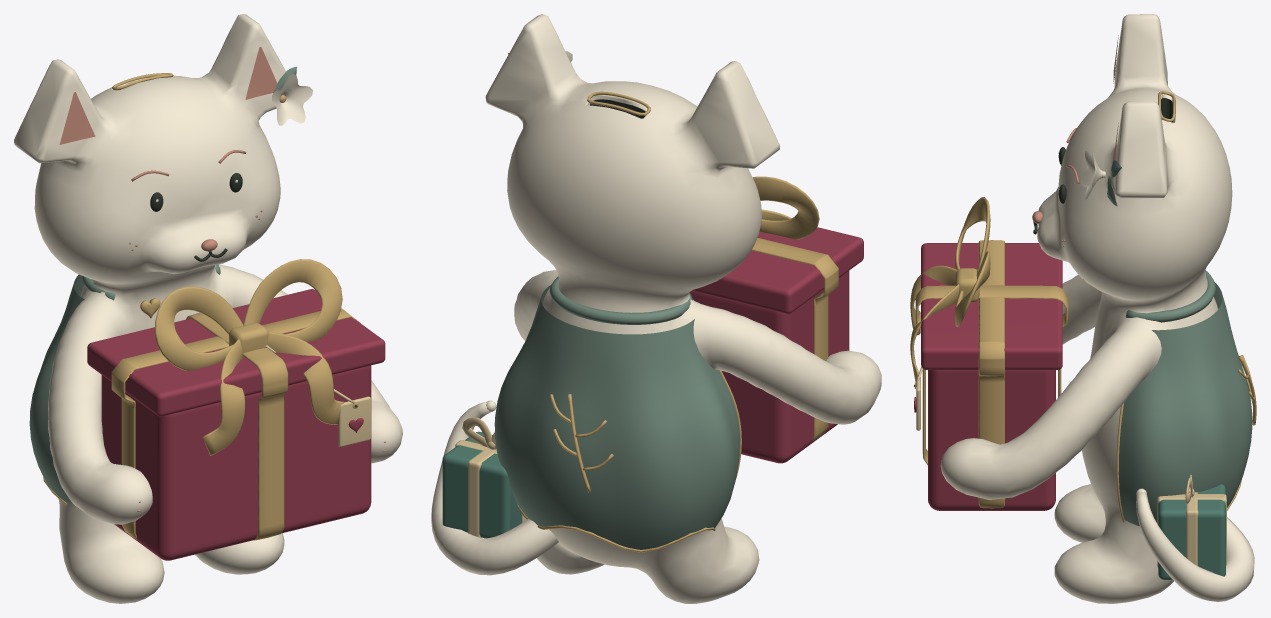
Rendered from gifts-giving.v1.glb.
The picture shows the model from 3 angles, left to right: view 1: azimuth 30°, elevation 25°; view 2: azimuth 150°, elevation 25°; view 3: azimuth 270°, elevation 25°; orthographic projection. The views are drawn at different scales.
Visible parts, largest first — view 1: Gifts & Giving | Porcelain, Gifts & Giving | Garnet, Gifts & Giving | Gold, Gifts & Giving | Sage, Gifts & Giving | Rose, Gifts & Giving | Parchment, Gifts & Giving | Ink; view 2: Gifts & Giving | Porcelain, Gifts & Giving | Sage, Gifts & Giving | Garnet, Gifts & Giving | Gold, Gifts & Giving | Celadon, Gifts & Giving | Parchment; view 3: Gifts & Giving | Porcelain, Gifts & Giving | Sage, Gifts & Giving | Garnet, Gifts & Giving | Gold, Gifts & Giving | Celadon, Gifts & Giving | Parchment, Gifts & Giving | Ink.
Boxes of the visible parts, box(x1,y1,x2,y2) form: Gifts & Giving | Porcelain: box(14, 14, 402, 603); Gifts & Giving | Garnet: box(87, 289, 385, 560); Gifts & Giving | Gold: box(43, 73, 359, 540); Gifts & Giving | Sage: box(29, 66, 296, 502); Gifts & Giving | Rose: box(59, 47, 386, 511); Gifts & Giving | Parchment: box(265, 345, 370, 446); Gifts & Giving | Ink: box(120, 89, 357, 407); Gifts & Giving | Porcelain: box(431, 14, 881, 603); Gifts & Giving | Sage: box(494, 53, 740, 549); Gifts & Giving | Garnet: box(689, 227, 863, 463); Gifts & Giving | Gold: box(517, 91, 838, 552); Gifts & Giving | Celadon: box(442, 431, 522, 538); Gifts & Giving | Parchment: box(455, 417, 526, 537); Gifts & Giving | Porcelain: box(940, 14, 1254, 603); Gifts & Giving | Sage: box(1107, 160, 1252, 526); Gifts & Giving | Garnet: box(914, 243, 1062, 510); Gifts & Giving | Gold: box(910, 91, 1256, 522); Gifts & Giving | Celadon: box(1158, 484, 1225, 579); Gifts & Giving | Parchment: box(915, 367, 1226, 568); Gifts & Giving | Ink: box(914, 98, 1172, 387).
Size of the model in its own units: 0.6493 by 1 by 0.6178.
